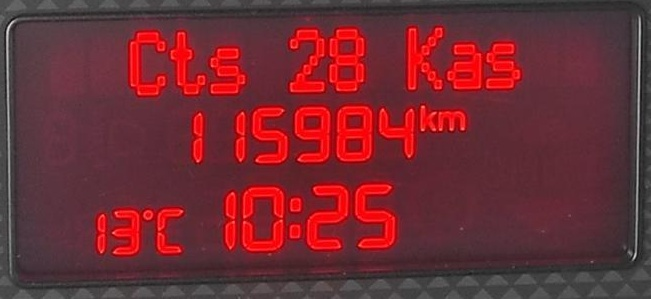0: (241, 184, 284, 252)
1: (187, 108, 211, 166), (221, 187, 237, 257), (231, 106, 248, 165), (94, 207, 107, 259)
2: (307, 180, 349, 253), (286, 23, 327, 95)
3: (109, 206, 141, 259)
4: (378, 106, 415, 158)
5: (350, 180, 398, 249), (251, 104, 290, 165)
8: (329, 24, 369, 93), (333, 103, 374, 161)
9: (292, 104, 329, 163)
X: (403, 20, 445, 92), (125, 27, 167, 97), (167, 29, 207, 96), (207, 43, 249, 96), (484, 37, 523, 92), (445, 39, 482, 91), (155, 205, 187, 261), (436, 107, 467, 136), (287, 192, 304, 243), (416, 102, 435, 134)
